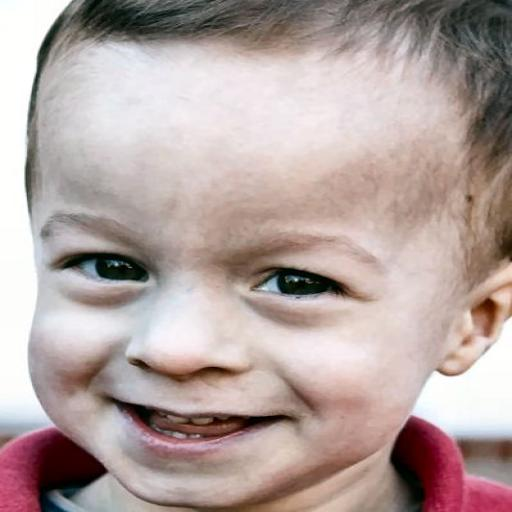Autism: (13, 17, 512, 511)
